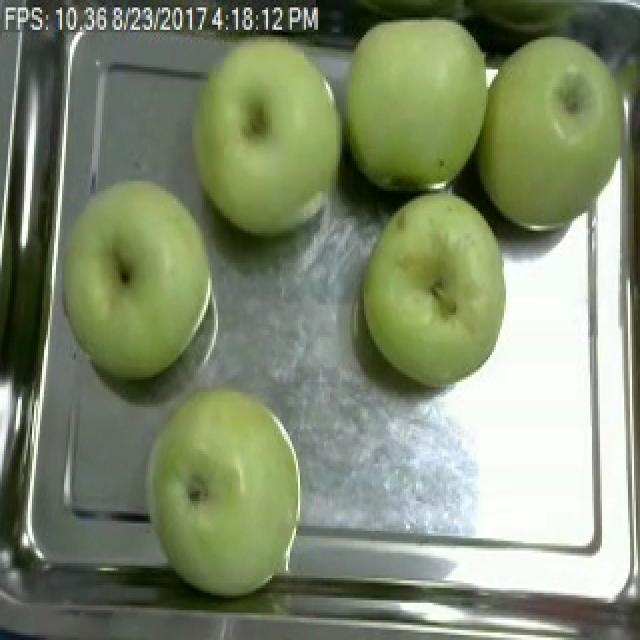50-_ripeness: (150, 394, 305, 589), (488, 38, 628, 250), (203, 33, 335, 240), (364, 191, 496, 389), (68, 186, 206, 373), (350, 8, 488, 192)
